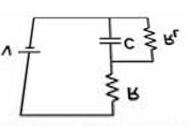resistor: (102, 69, 123, 102), (139, 22, 159, 50)
